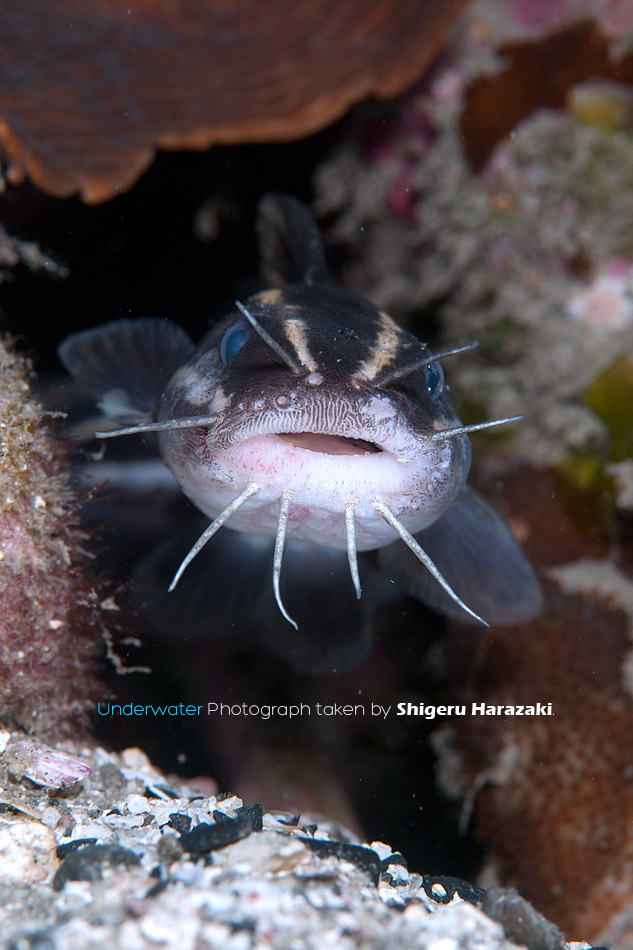gonzui: (97, 203, 568, 615)
